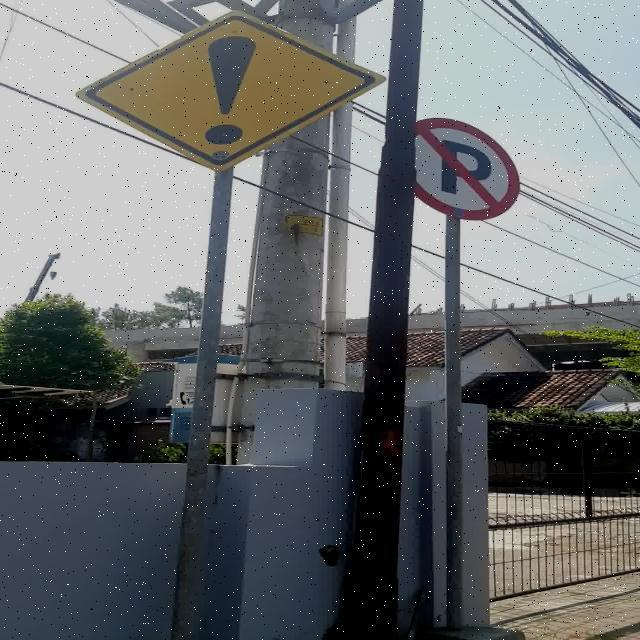Hati-Hati: (74, 9, 387, 170)
